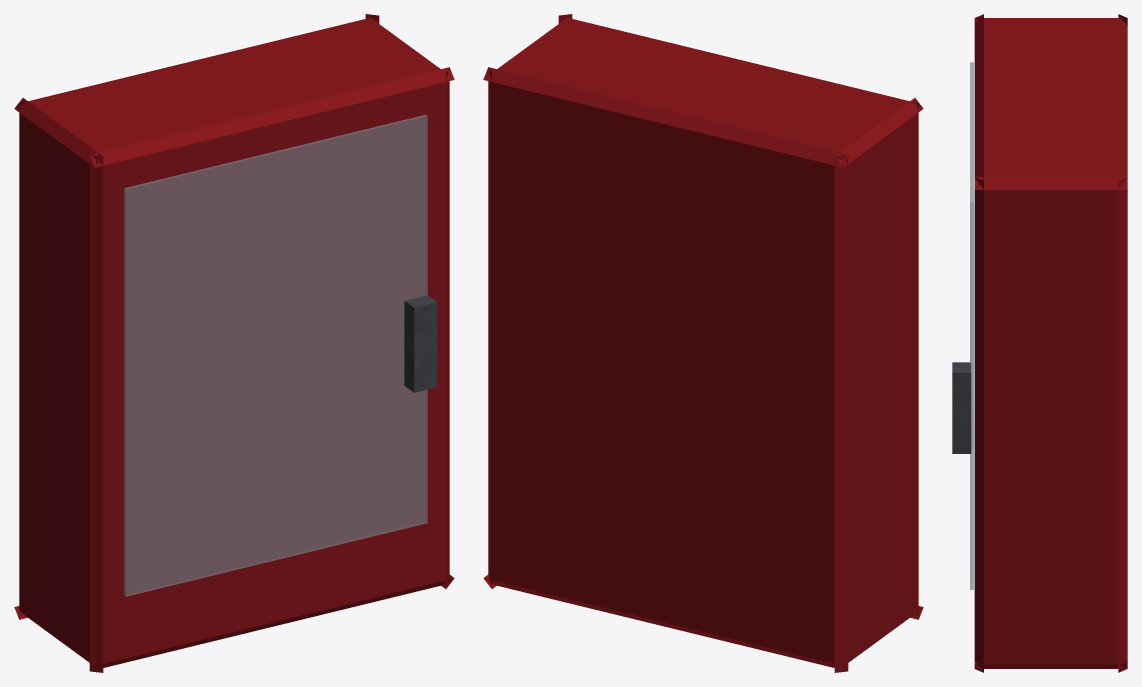
File: fire_cabinet.obj
3 renders of one model, left to right at view 1: azimuth 30°, elevation 25°; view 2: azimuth 150°, elevation 25°; view 3: azimuth 270°, elevation 25°, orthographic. The views are drawn at different scales.
Parts seen in each view (by area): view 1: fire_cabinet; view 2: fire_cabinet; view 3: fire_cabinet.
Part boxes in pixels (<box>): fire_cabinet: <box>14,14,454,672</box>; fire_cabinet: <box>483,14,923,672</box>; fire_cabinet: <box>952,14,1127,672</box>.
Size of the model in its own units: 0.62 by 0.85 by 0.275.
